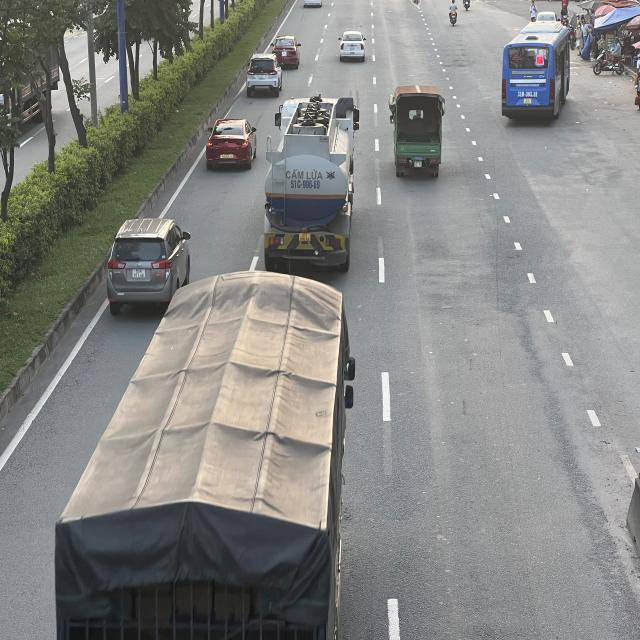car: (107, 218, 193, 314), (204, 120, 256, 171), (245, 52, 282, 96), (271, 36, 301, 69), (338, 32, 368, 64)
coach: (503, 22, 573, 121)
container: (262, 98, 358, 274)
truck: (47, 256, 355, 637), (390, 83, 446, 177)
